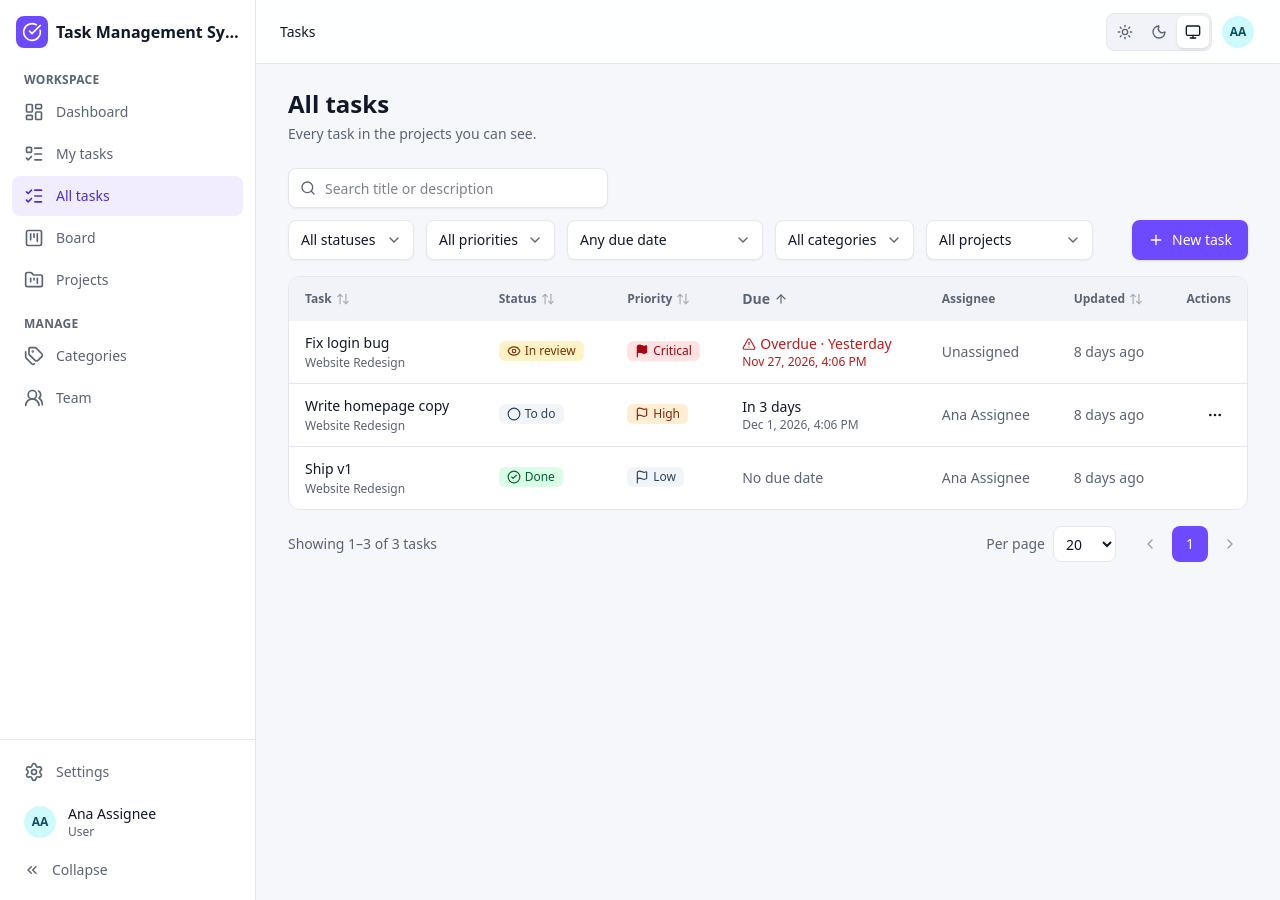
Scenario: Task lists › offers each user only the actions the API allows: the assignee may move status, not edit
Expected: the link "Write homepage copy" is shown, [305,396,449,415]
Click the button named "Actions for Write homepage copy" at (1215, 415), box [1199,399,1231,431]
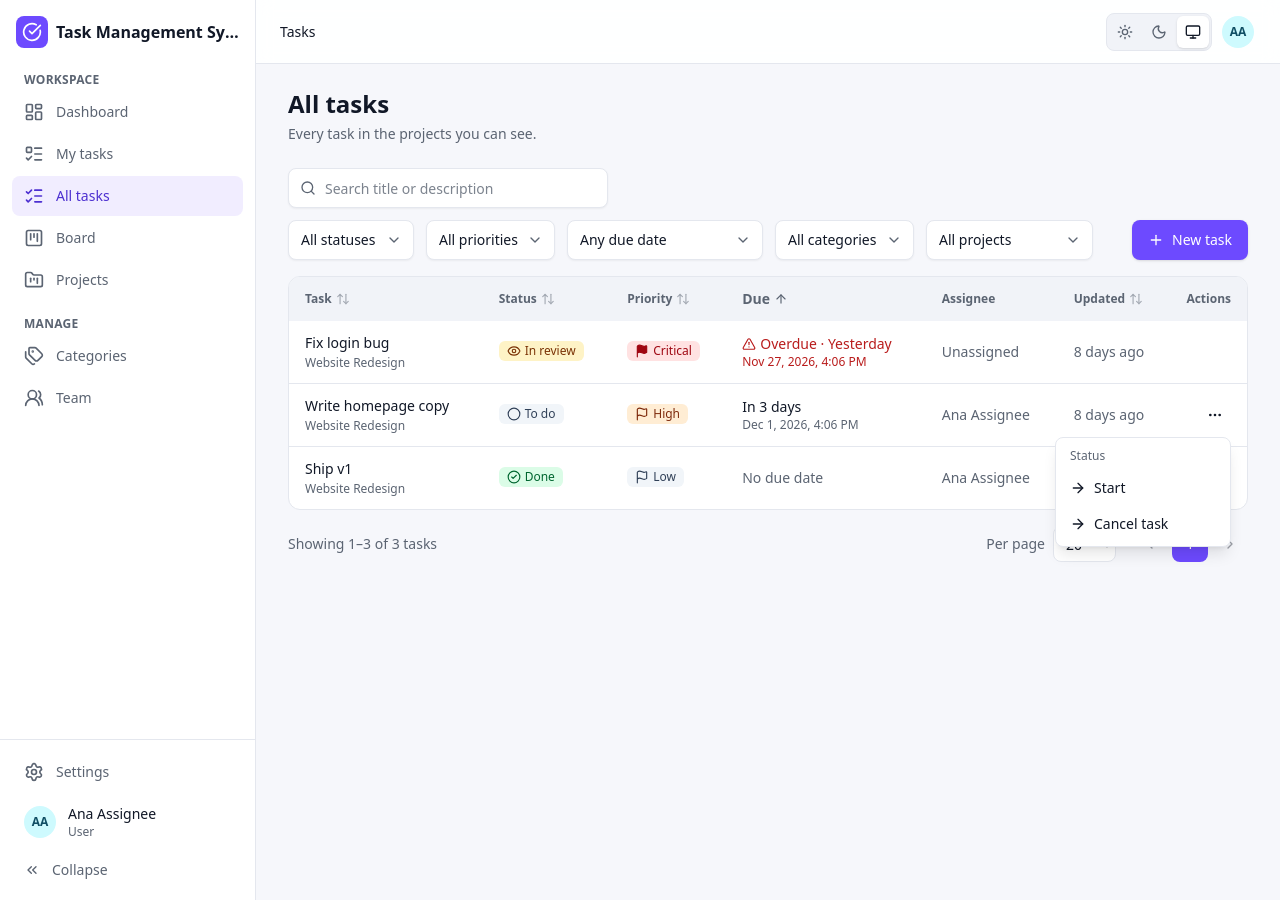
Expected: the menu items read "Start", "Cancel task", in this order
Click the menu item "Start" at (1098, 488), box [1070,478,1125,497]
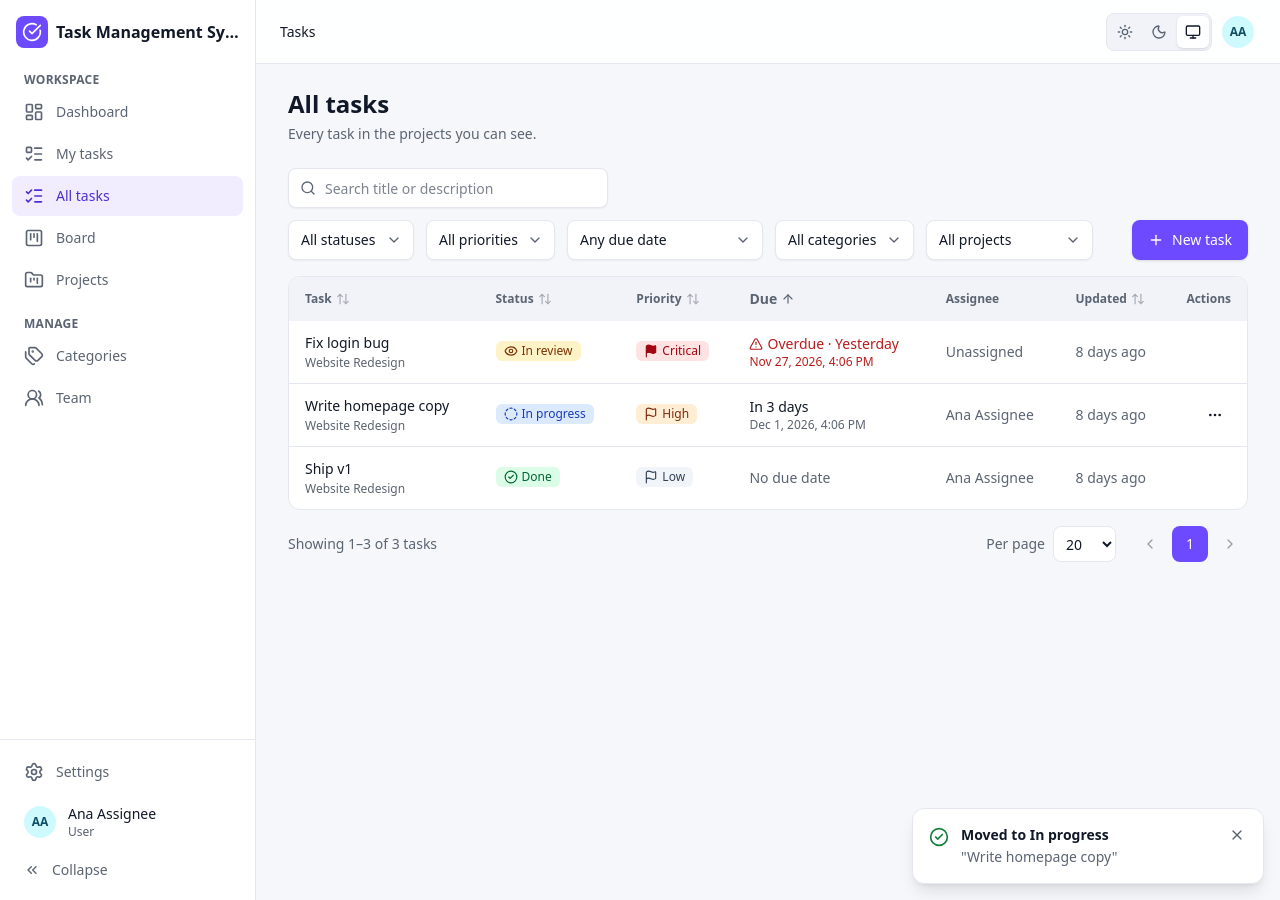
Expected: the text "Moved to In progress" is shown, [961,825,1109,844]
